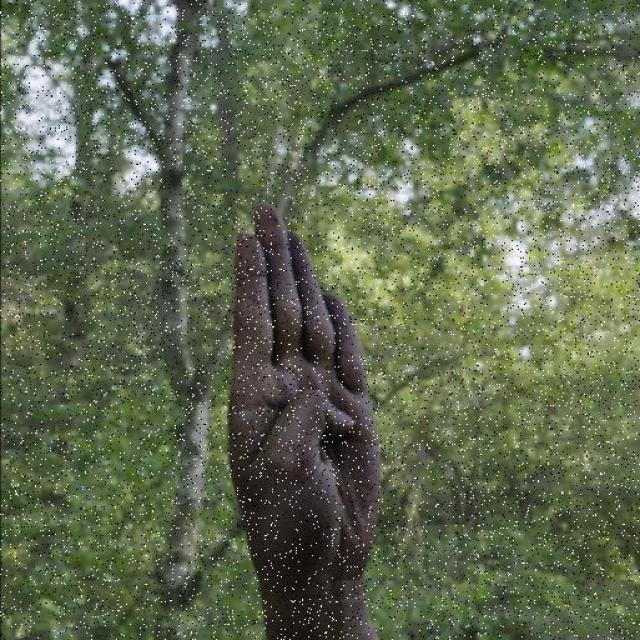B: (216, 205, 375, 605)
